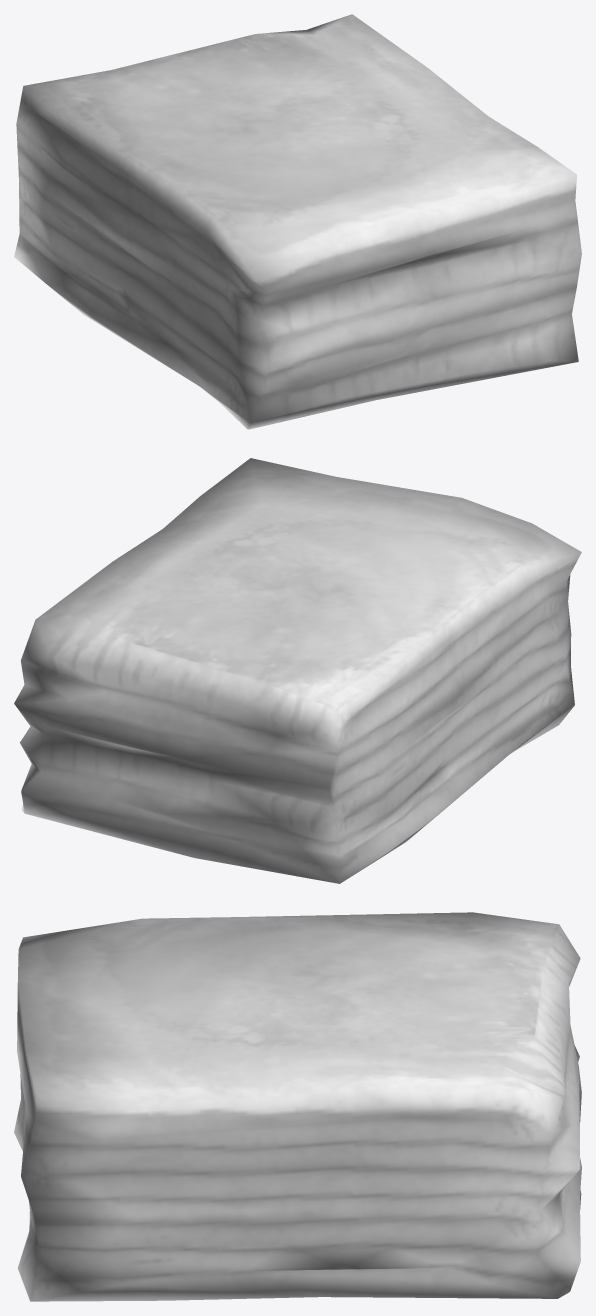
Rendered from SM_LaundryPileA.fbx.
The picture shows the model from 3 angles, top to bottom: view 1: azimuth 30°, elevation 25°; view 2: azimuth 150°, elevation 25°; view 3: azimuth 270°, elevation 25°; orthographic projection. The views are drawn at different scales.
Parts seen in each view (by area): view 1: SM_LaundryPileA_LOD0; view 2: SM_LaundryPileA_LOD0; view 3: SM_LaundryPileA_LOD0.
Boxes of the visible parts, left/top/right/bottom form: SM_LaundryPileA_LOD0: left=14, top=14, right=581, bottom=429; SM_LaundryPileA_LOD0: left=14, top=458, right=581, bottom=883; SM_LaundryPileA_LOD0: left=14, top=912, right=581, bottom=1301.
Bounding box in the file's own units: 36.81 × 47.5 × 20.13.
